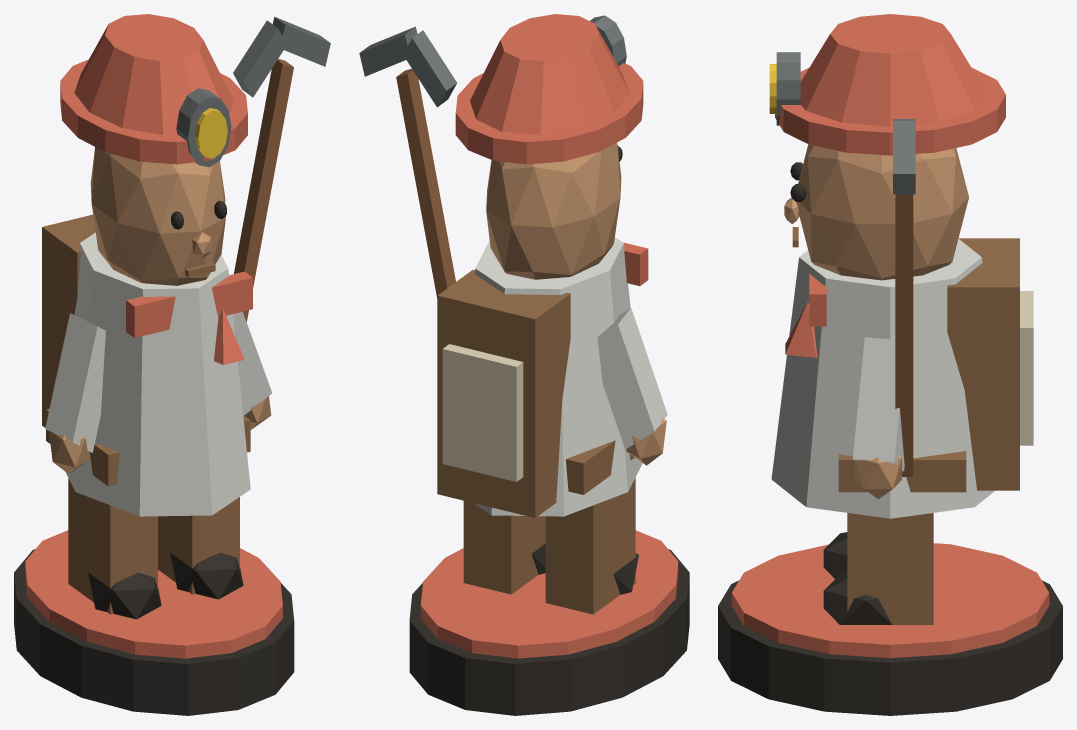
File: peao_garimpeiro_urucum.glb
3 renders of one model, left to right at view 1: azimuth 30°, elevation 25°; view 2: azimuth 150°, elevation 25°; view 3: azimuth 270°, elevation 25°, orthographic. The views are drawn at different scales.
Visible parts, largest first — view 1: peao_garimpeiro_urucum; view 2: peao_garimpeiro_urucum; view 3: peao_garimpeiro_urucum.
Part boxes in pixels (<box>): peao_garimpeiro_urucum: <box>14,14,330,715</box>; peao_garimpeiro_urucum: <box>359,14,689,715</box>; peao_garimpeiro_urucum: <box>718,14,1062,715</box>.
Bounding box in the file's own units: 2 × 4 × 2.
